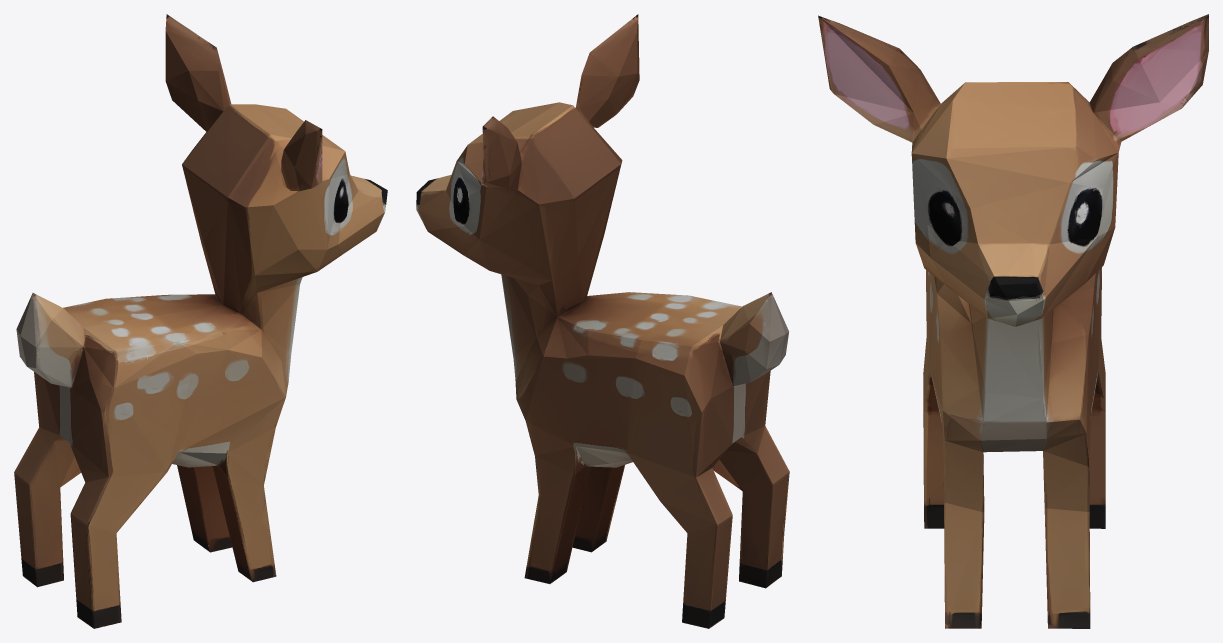
3 views of the same model, side by side, from view 1: azimuth 30°, elevation 25°; view 2: azimuth 150°, elevation 25°; view 3: azimuth 270°, elevation 25° (orthographic). The views are drawn at different scales.
Visible parts, largest first — view 1: Figure; view 2: Figure; view 3: Figure.
Boxes of the visible parts, <box> form: Figure: <box>14,14,387,628</box>; Figure: <box>416,14,789,628</box>; Figure: <box>818,14,1208,628</box>.
Size of the model in its own units: 0.393 by 0.5052 by 0.2925.
Materials: 1 (1 with a texture image).
